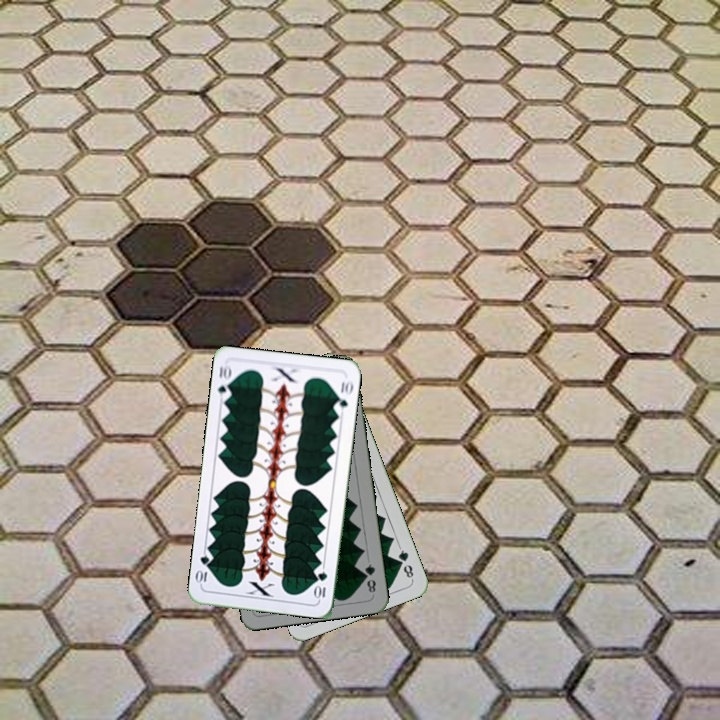G10: (214, 361, 234, 402), (312, 567, 330, 602)
G8: (394, 543, 416, 582), (360, 560, 379, 597)
